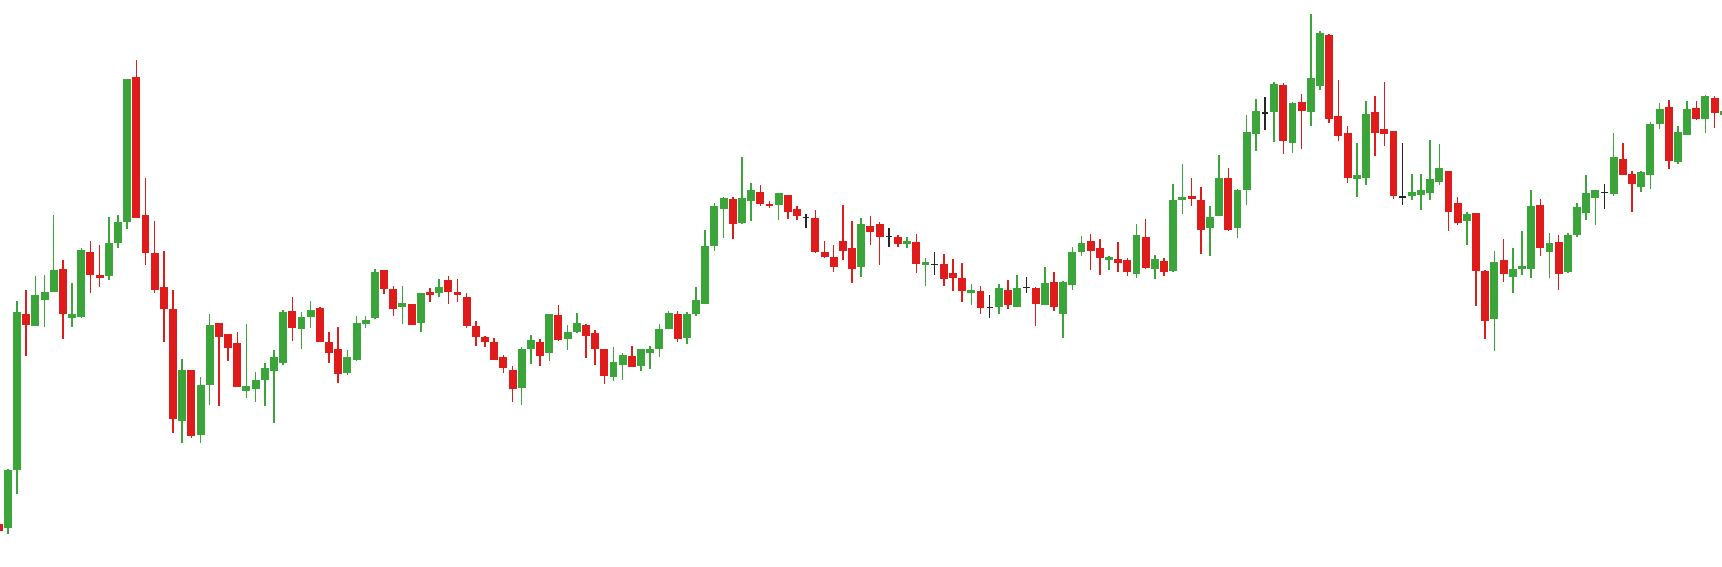sell: (46, 55, 142, 290), (241, 290, 297, 375)
